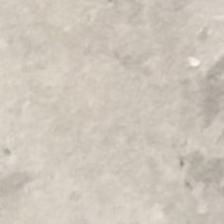Non_Crack: (18, 22, 220, 200)
